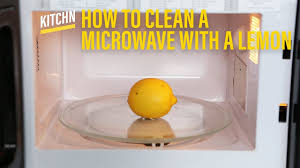lemon: (120, 75, 179, 123)
